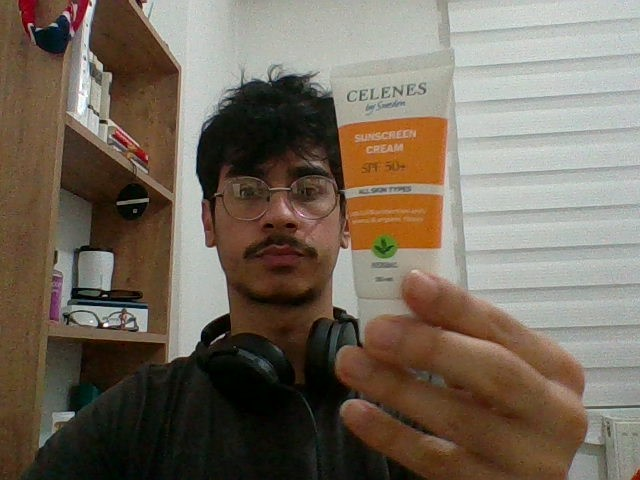CelenesSunCream: (329, 65, 454, 321)
